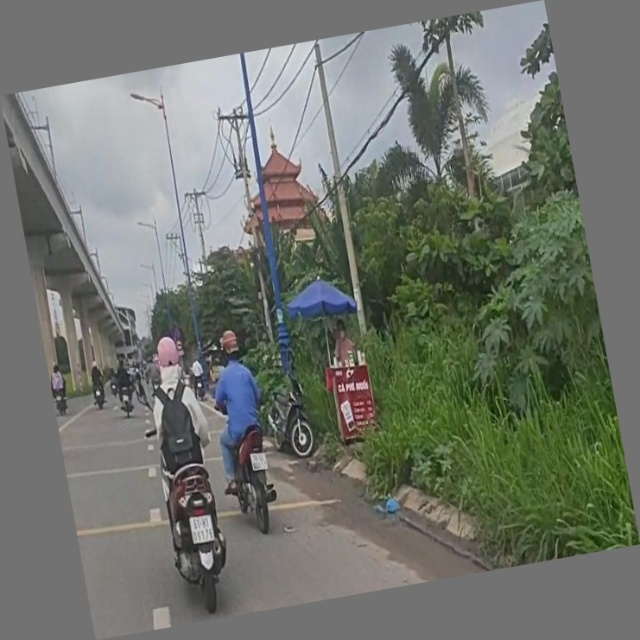B.8a: (175, 338, 182, 350)
P.130: (173, 325, 182, 339)
